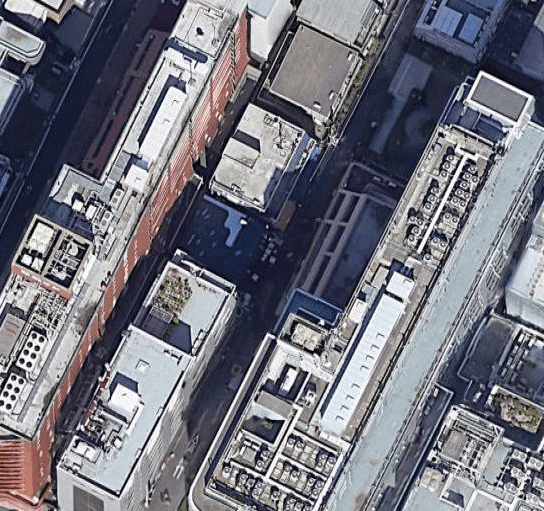facility: (206, 36, 535, 508), (0, 0, 226, 338), (417, 0, 498, 46)
flatroof: (289, 0, 388, 48)
rooftop: (208, 38, 537, 510), (0, 0, 226, 338), (44, 251, 236, 506), (203, 95, 326, 221), (247, 15, 370, 141)
